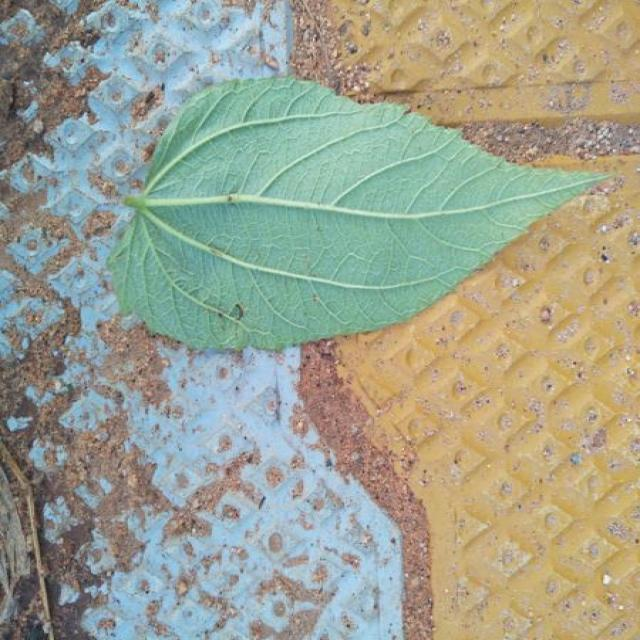leaf: (105, 74, 616, 353)
